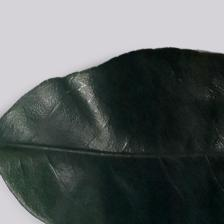healthy: (2, 61, 224, 224)
